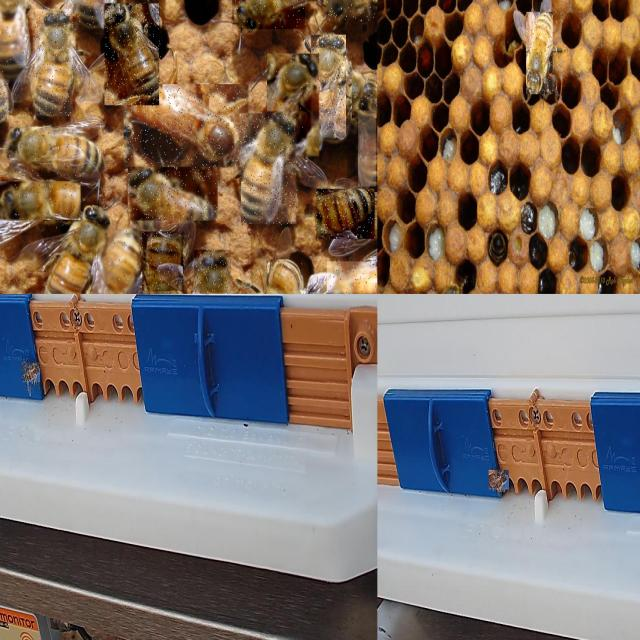honeybee: (27, 202, 110, 299), (232, 112, 302, 225), (101, 6, 170, 113), (126, 90, 236, 152), (131, 161, 224, 227), (28, 14, 81, 123), (268, 49, 315, 153), (310, 32, 354, 139), (8, 130, 103, 179), (2, 175, 81, 222), (316, 186, 374, 248), (98, 223, 145, 298), (516, 12, 555, 101), (257, 253, 332, 295), (222, 0, 313, 34), (140, 227, 184, 292), (359, 73, 381, 186), (0, 0, 32, 73), (190, 252, 228, 294), (320, 0, 374, 28), (22, 361, 41, 386), (489, 472, 509, 492)
